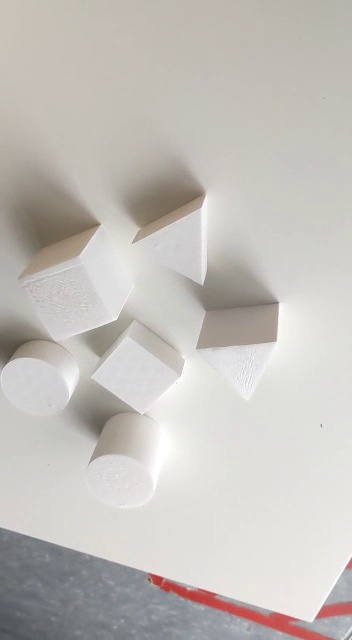Clyinder_short: (1, 338, 83, 421)
Cube: (17, 221, 140, 343)
Cube_short: (86, 316, 186, 419)
Cylinder: (81, 408, 168, 511)
Triangle: (190, 298, 285, 404)
Triangle_short: (128, 195, 214, 291)
